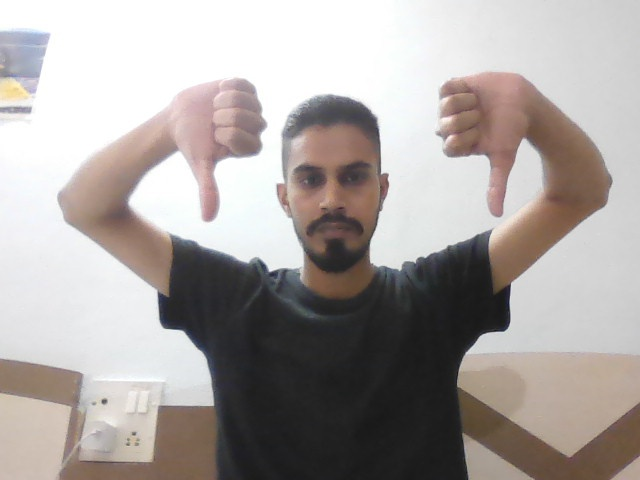ThumbsDown: (169, 65, 273, 227)
